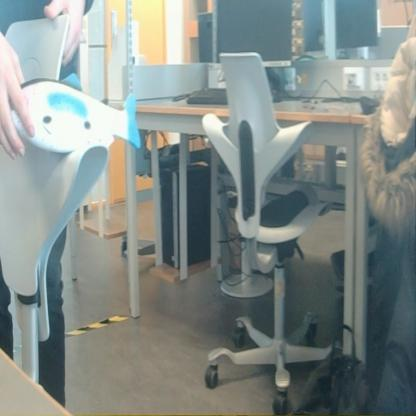rubberfish: (0, 71, 144, 156)
